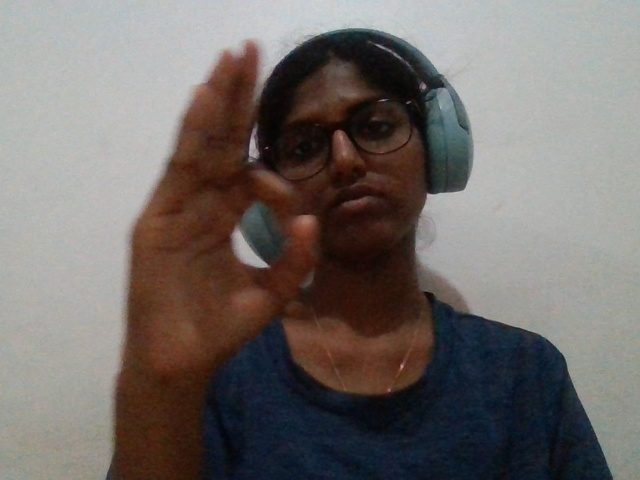F: (102, 30, 348, 479)
